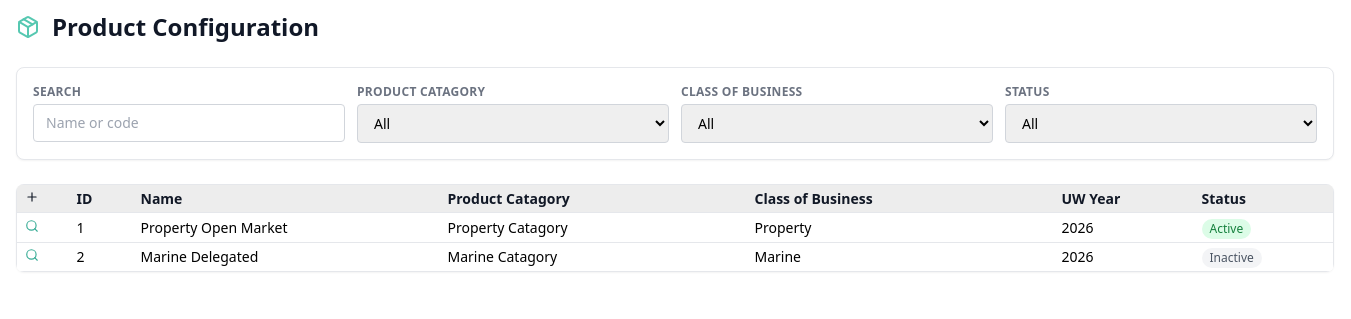
Test: T-settings-products-R02: inline add product row › opens inline row with product fields when add button is clicked
Expected: the text "Property Open Market" is shown, [132,213,440,242]
Click the button named "add product". click: (32, 197)
box: [25,190,39,204]
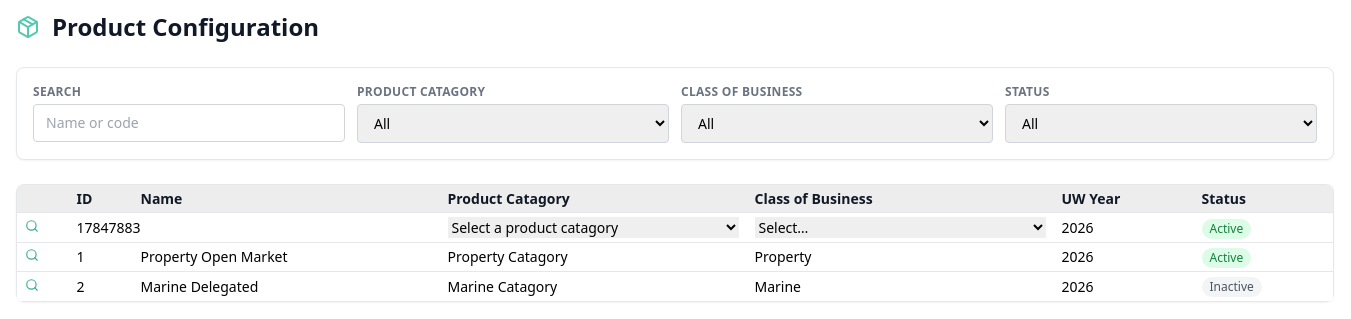
Expected: the number of dropdowns labelled "Product Catagory" is 2, [357,104,669,143]; [448,217,738,238]
Expected: the field named "product name" is shown, [140,217,432,238]
